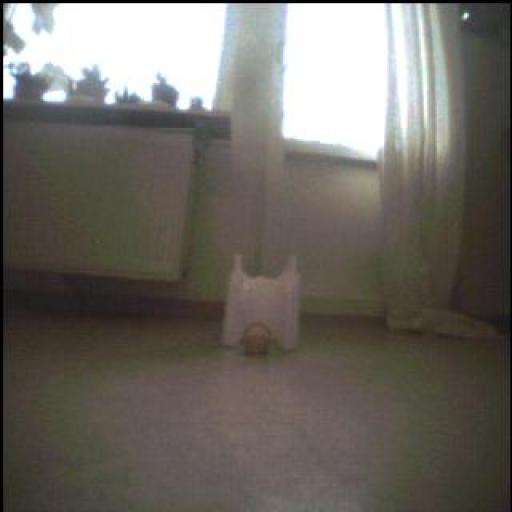Basket: (243, 323, 273, 356)
